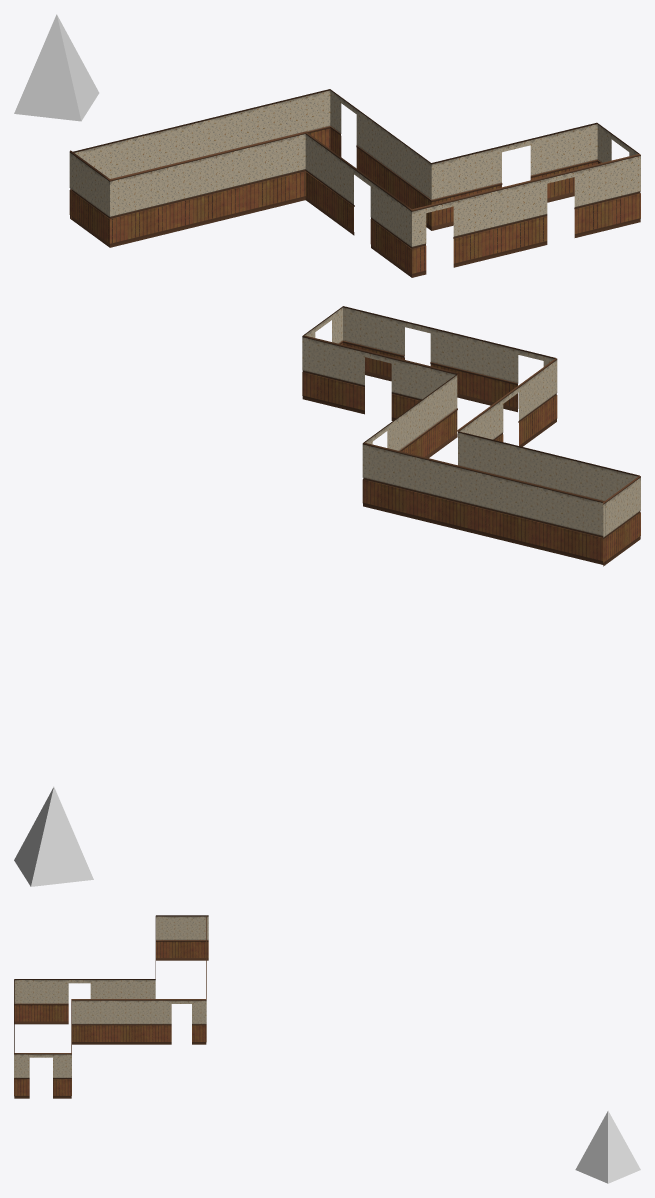
File: SM_floor2_Hall_COMBINED.fbx
The picture shows the model from 3 angles, top to bottom: view 1: azimuth 30°, elevation 25°; view 2: azimuth 150°, elevation 25°; view 3: azimuth 270°, elevation 25°; orthographic projection. The views are drawn at different scales.
Visible parts, largest first — view 1: Trim_Wall2ndfloor.001, SM_referemcepoint; view 2: Trim_Wall2ndfloor.001, SM_referemcepoint; view 3: Trim_Wall2ndfloor.001, SM_referemcepoint.
Boxes of the visible parts, x1,y1,x2,y2 form: Trim_Wall2ndfloor.001: (69, 89, 640, 277); SM_referemcepoint: (14, 14, 99, 121); Trim_Wall2ndfloor.001: (302, 306, 640, 566); SM_referemcepoint: (14, 787, 93, 886); Trim_Wall2ndfloor.001: (14, 915, 208, 1098); SM_referemcepoint: (575, 1110, 640, 1183).
Size of the model in its own units: 1707 by 3277 by 932.
